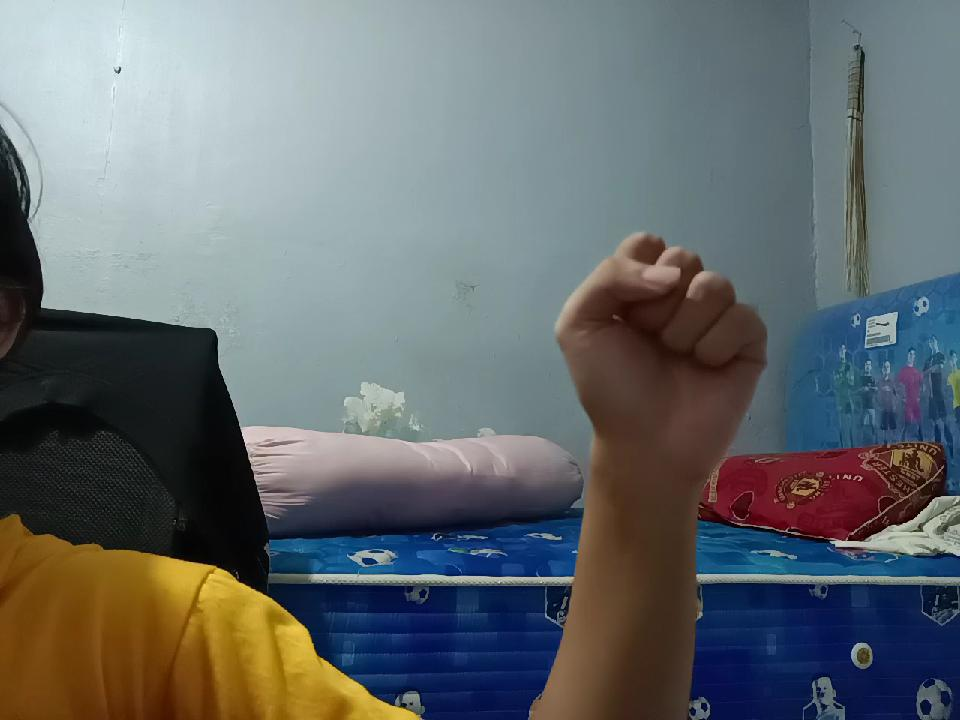rock: (556, 215, 756, 462)
